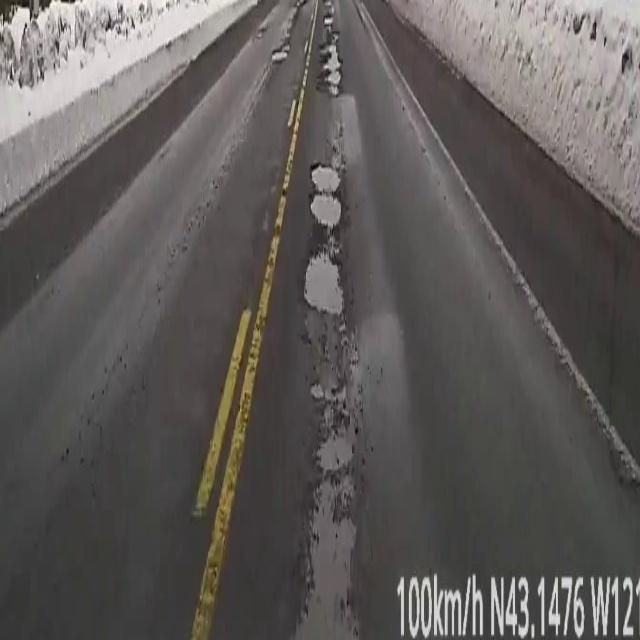pothole: (289, 364, 363, 640), (304, 256, 343, 314), (311, 163, 341, 231), (322, 9, 342, 96), (272, 40, 290, 64)
